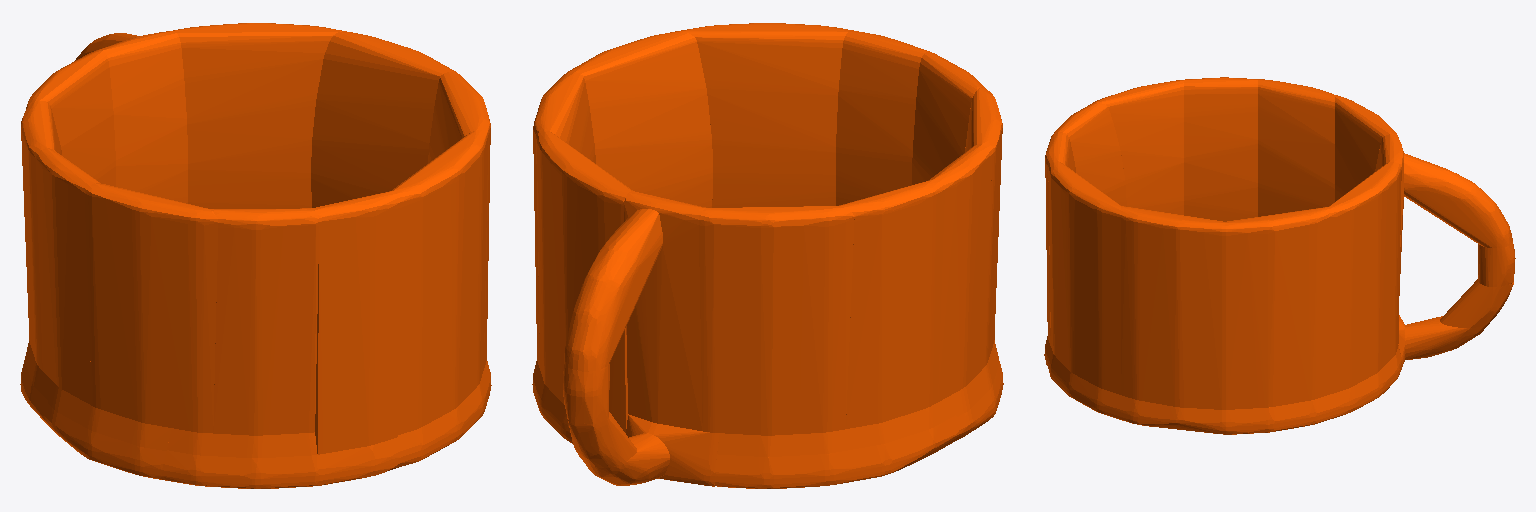
robot.urdf — design:
<?xml version="1.0"?>
<robot name="design">
  <material name="obj_color">
      <color rgba="1.0 0.423529411765 0.0392156862745 1.0"/>
  </material>
  <link name="base">
    <visual>
      <origin xyz="0.0 0.0 0.0"/>
      <geometry>
        <mesh filename="model_empty_align.obj" scale="1 1 1"/>
      </geometry>
      <material name="obj_color"/>
    </visual>
    <collision>
      <origin xyz="0.0 0.0 0.0"/>
      <geometry>
        <mesh filename="model_empty_align.obj" scale="1 1 1"/>
      </geometry>
    </collision>
  </link>
</robot>

--- Render facts (derived) ---
3 views of the same robot in one strip: view 1: azimuth 30°, elevation 25°; view 2: azimuth 150°, elevation 25°; view 3: azimuth 270°, elevation 25° (orthographic).
Robot: design — 1 links, 0 joints (none); root link base; default pose: all joints at 0.
Visible links, largest first — view 1: base; view 2: base; view 3: base.
Boxes of the visible links, x1,y1,x2,y2 form: base: (20,23,491,488); base: (532,23,1003,488); base: (1044,77,1515,434).
Size in the robot's own frame: 0.1007 by 0.1317 by 0.065 metres.
1 mesh visuals loaded from 1 distinct referenced files (1 OBJ).
